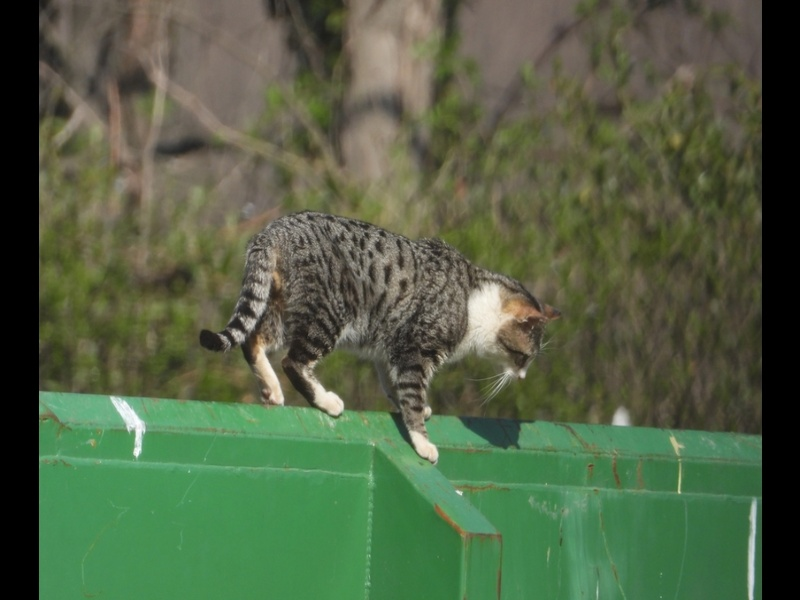cat: (199, 206, 564, 471)
